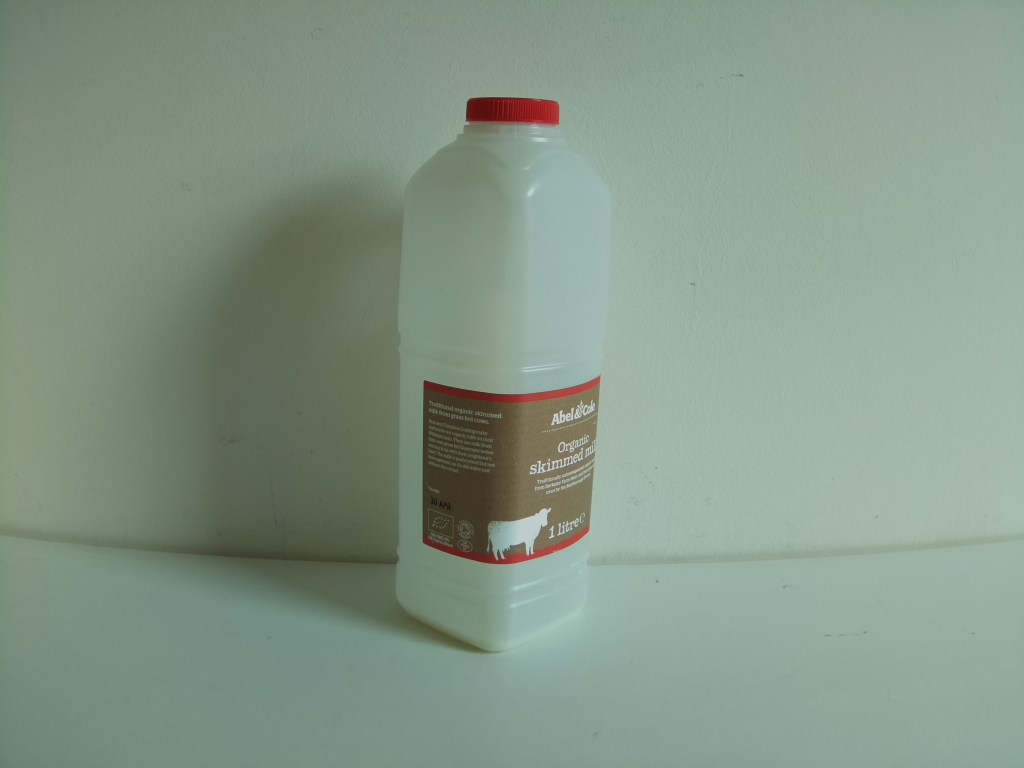milk: (389, 94, 615, 663)
